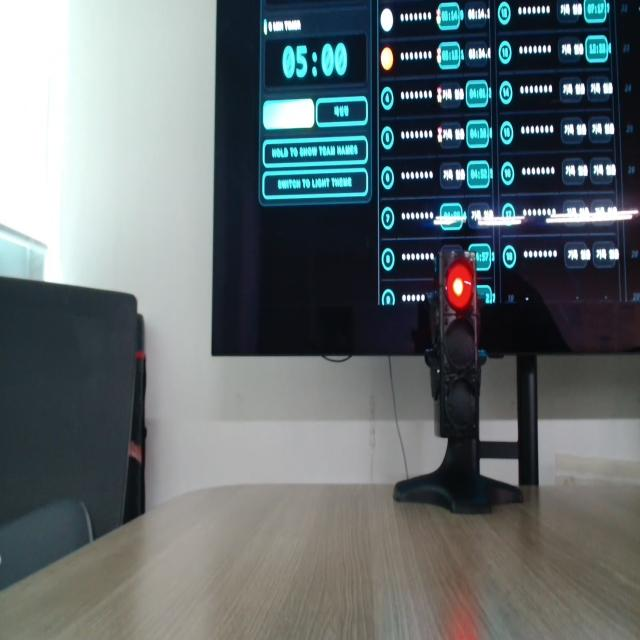red_light: (446, 259, 473, 311)
